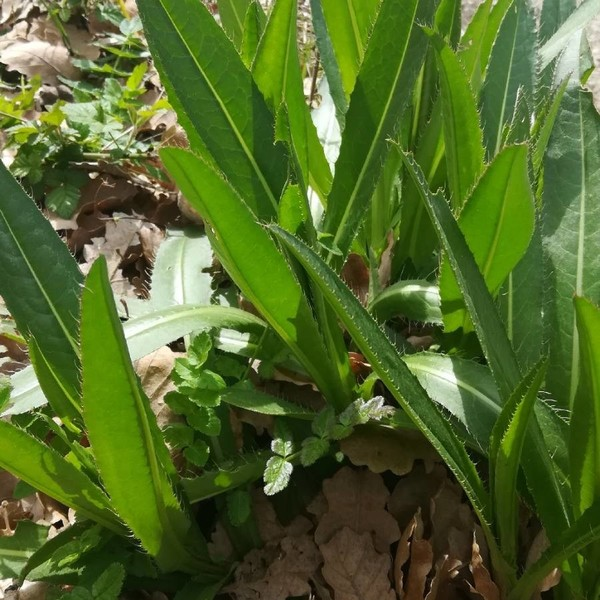obstacle: (120, 10, 492, 471)
